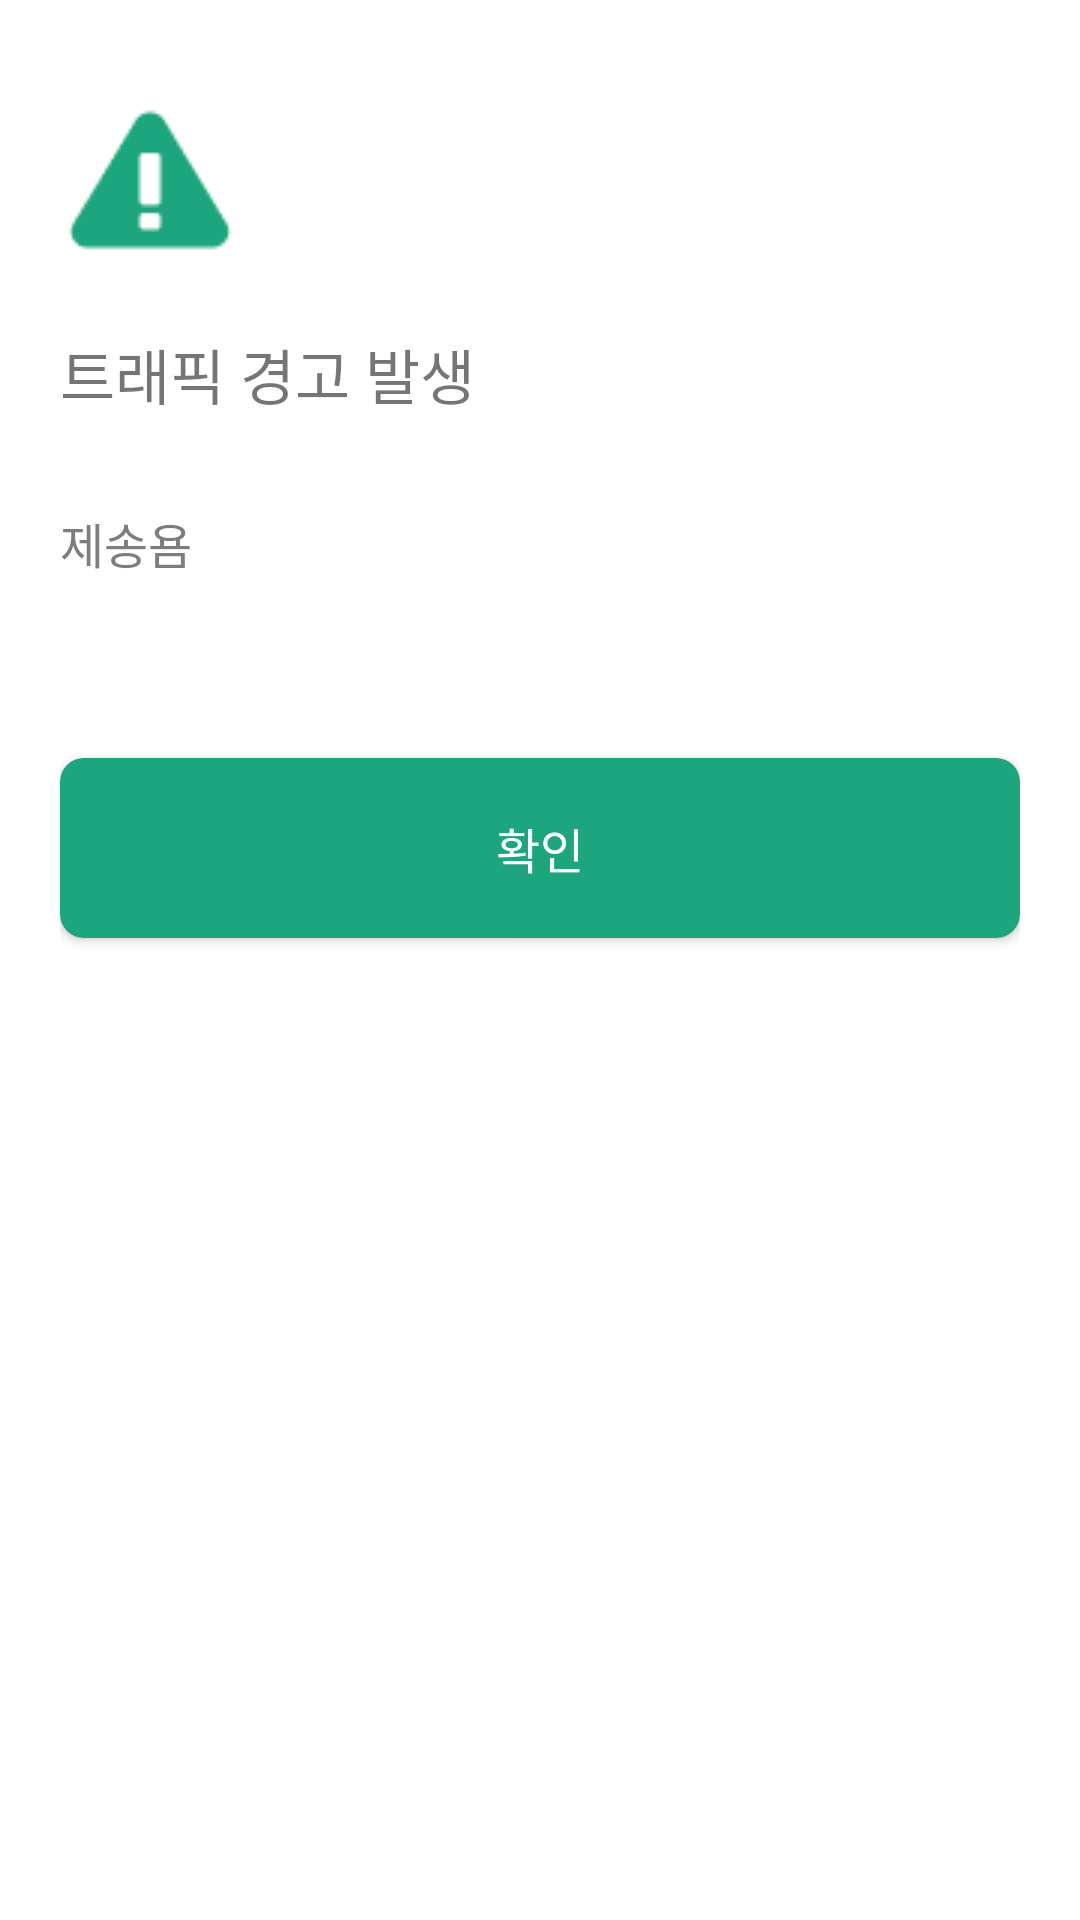

Point at icon controls on the screen. Image size 1080 x 1920, points as point (x, y).
warning: point (150, 180)
